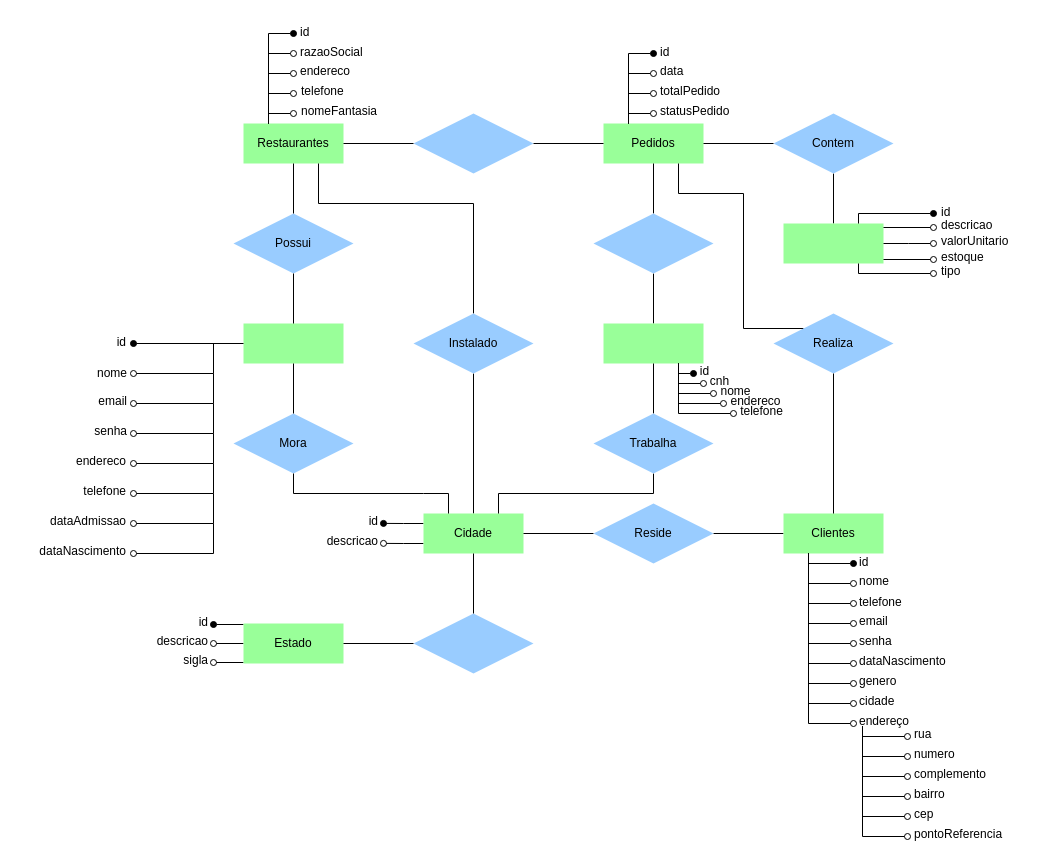
Image size: 1039x866. Some labels were removed from this diagram. The shapes that lost their labels are listed below. From the top down, each one's centre as x and y in pixels, then its label:
the point at 473,143: Recebe
the point at 653,243: Entrega
the point at 833,243: Produtos
the point at 293,343: Funcionario
the point at 653,343: Entregadores
the point at 473,643: Pertence
